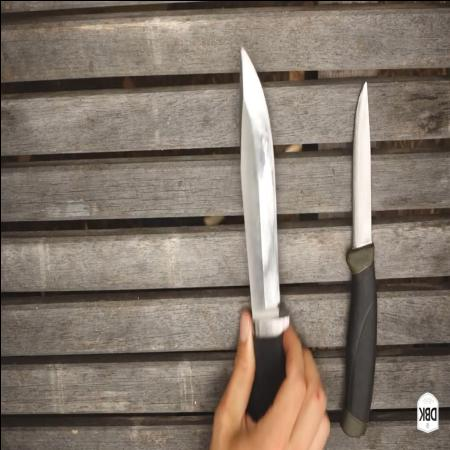long weapon: (224, 34, 308, 384), (342, 66, 388, 302)
